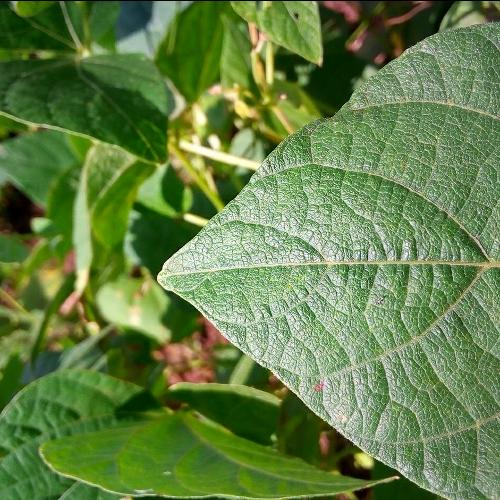sehat: (159, 27, 499, 500)
